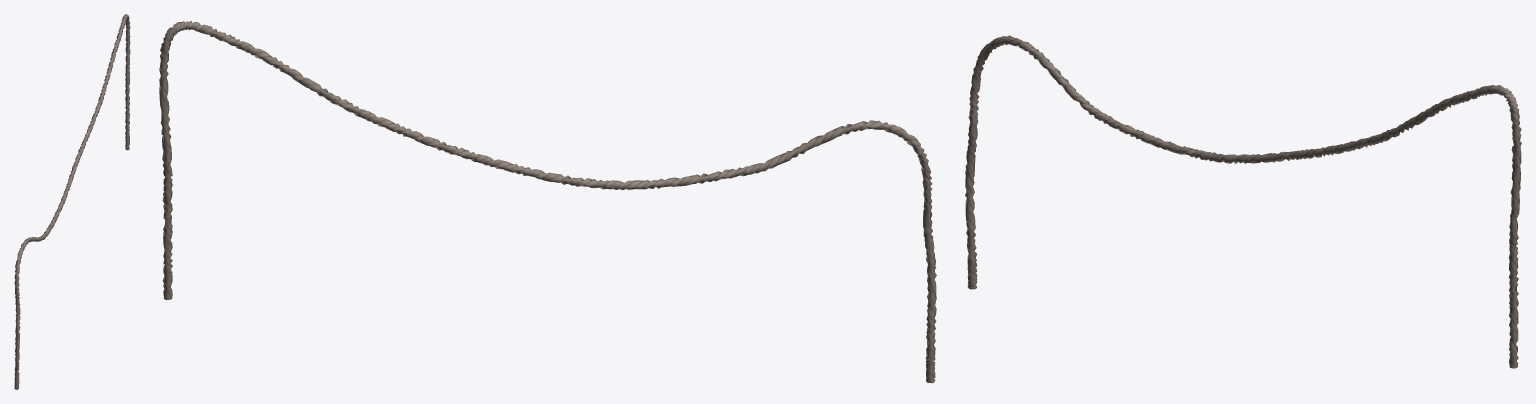
Rendered from SM_RopeSplineMesh_Splines_37.fbx.
The picture shows the model from 3 angles, left to right: view 1: azimuth 30°, elevation 25°; view 2: azimuth 150°, elevation 25°; view 3: azimuth 270°, elevation 25°; orthographic projection. The views are drawn at different scales.
Visible parts, largest first — view 1: SM_RopeSplineMesh_Splines_37; view 2: SM_RopeSplineMesh_Splines_37; view 3: SM_RopeSplineMesh_Splines_37.
Boxes of the visible parts, x1,y1,x2,y2 form: SM_RopeSplineMesh_Splines_37: [14, 14, 130, 389]; SM_RopeSplineMesh_Splines_37: [159, 21, 936, 383]; SM_RopeSplineMesh_Splines_37: [965, 35, 1521, 368].
Size of the model in its own units: 149 by 143 by 123.
